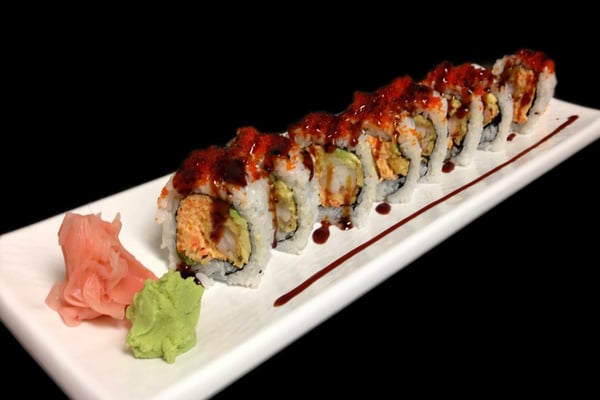sandwich: (153, 53, 584, 291)
